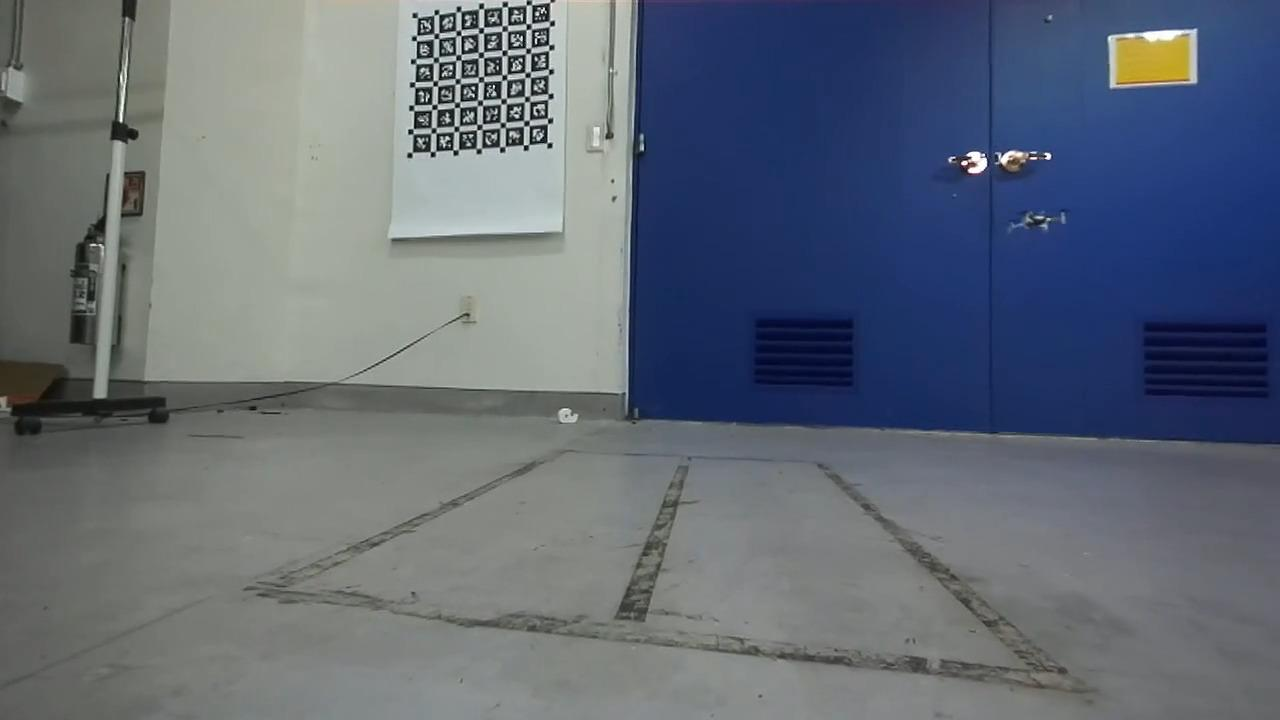crazyflie: (995, 204, 1079, 241)
